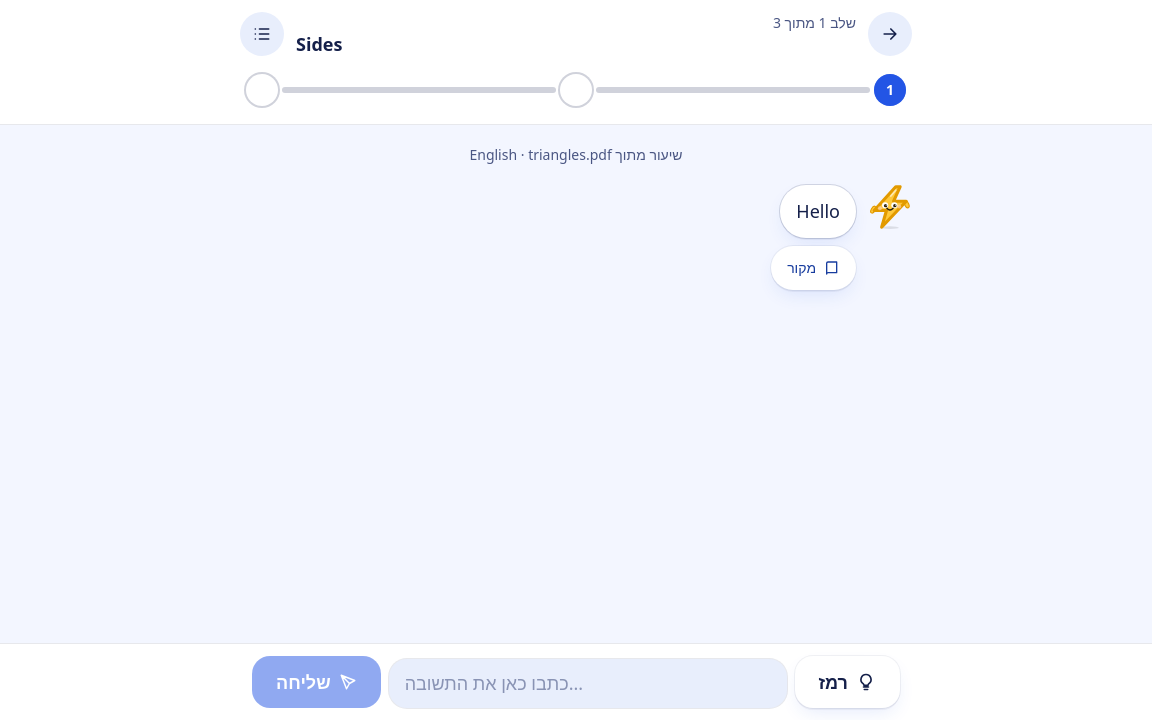
answering › a failed turn shows the banner with Retry, keeps the step, and Retry does not add an attempt
This screenshot has width=1152, height=720.
Expected: the text "Hello" is shown, [796,197,840,226]
In the text box named "התשובה שלכם": (588, 684) [389,659,786,708], type "three"
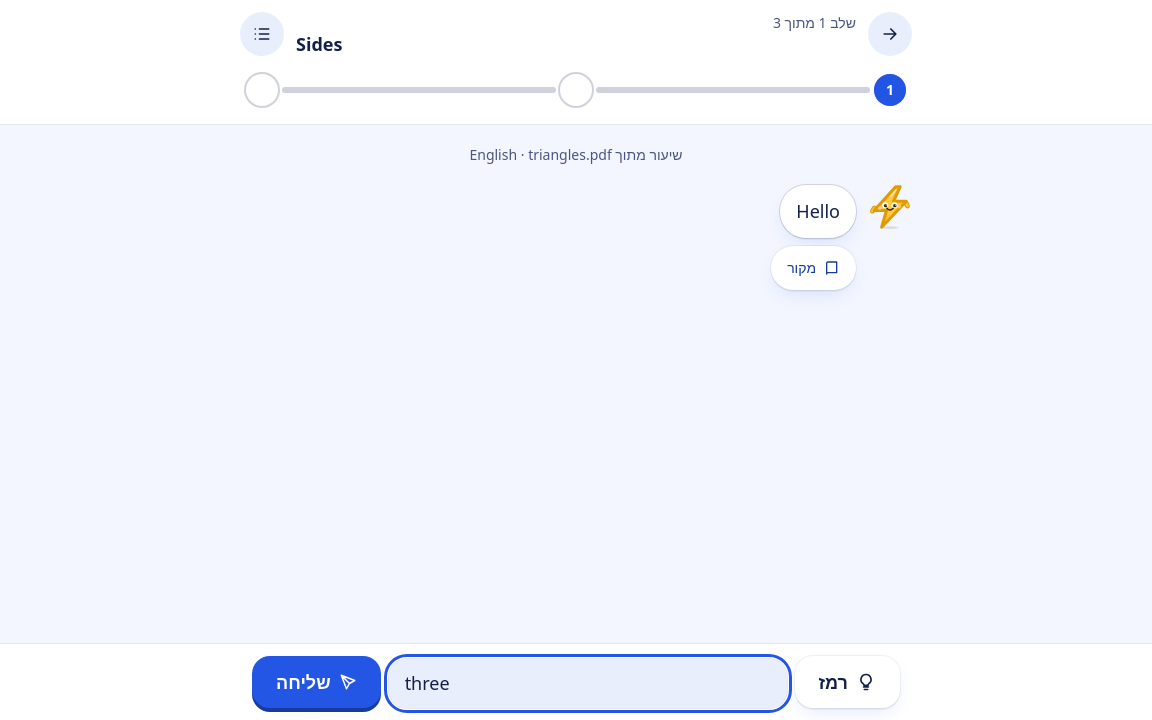
Click the button "שליחה": (316, 682) [252,656,381,708]
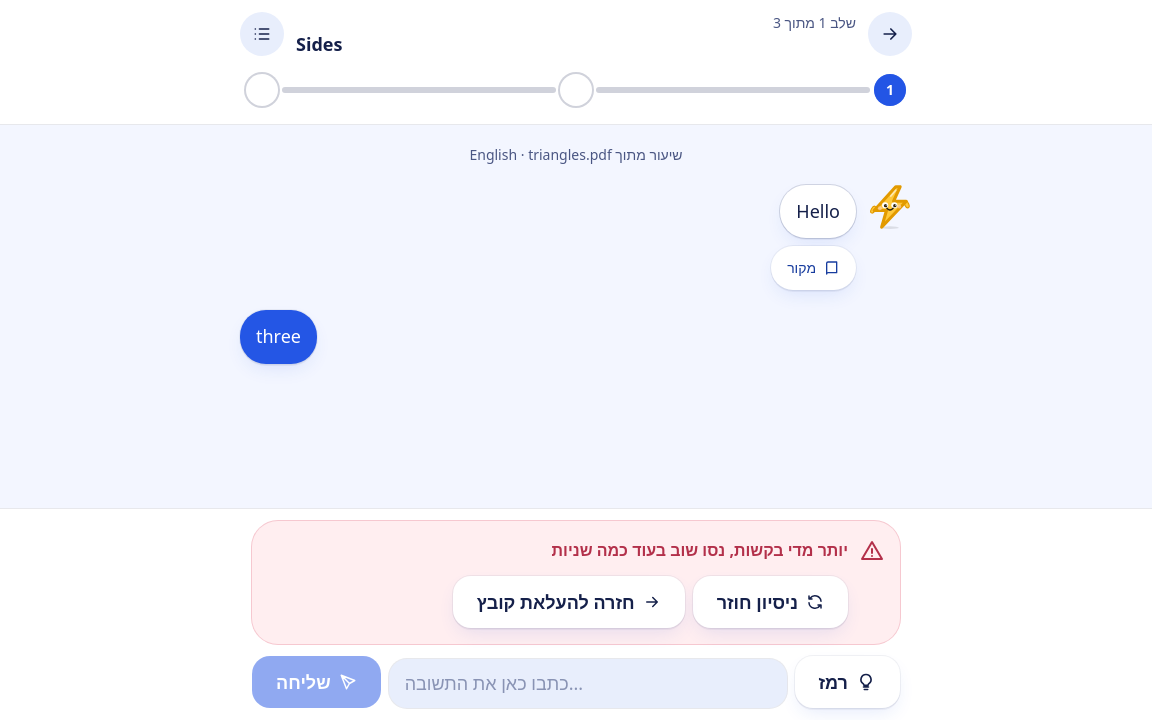
Result: the text "יותר מדי בקשות, נסו שוב בעוד כמה שניות" is shown at [552,539,848,561]
Click the button "ניסיון חוזר": (770, 602) [693,576,848,628]
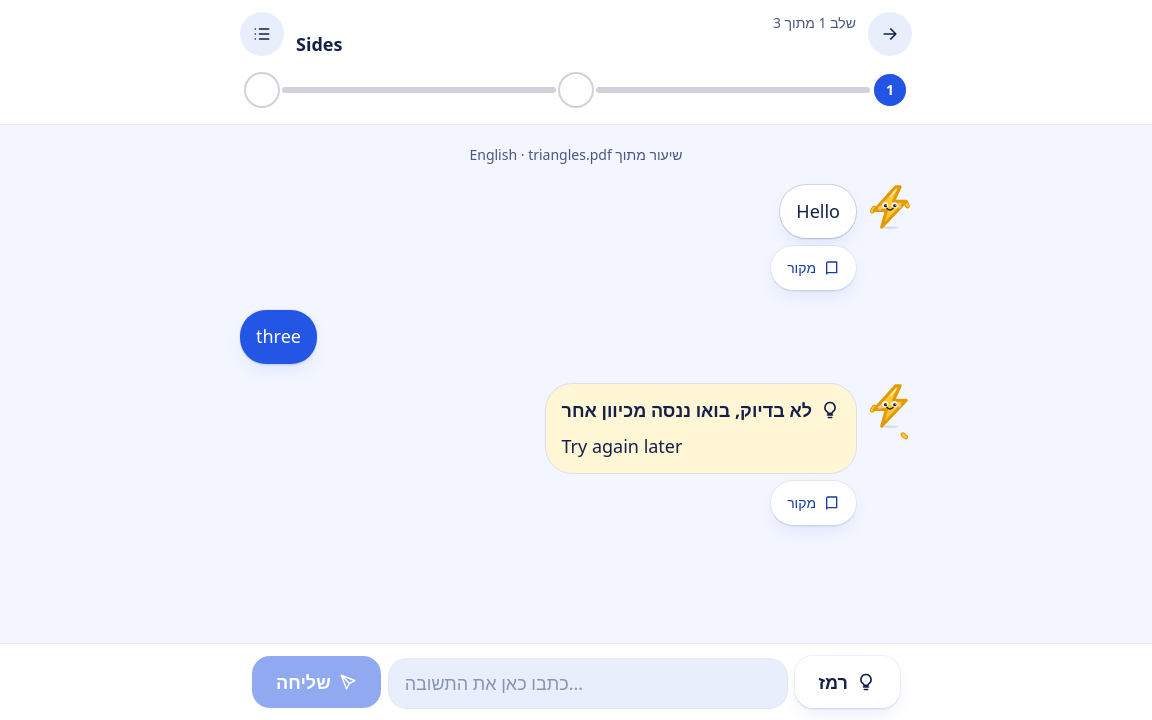
Result: the text "Try again later" is shown at [562,434,682,458]
Result: the text "יותר מדי בקשות, נסו שוב בעוד כמה שניות" is gone
